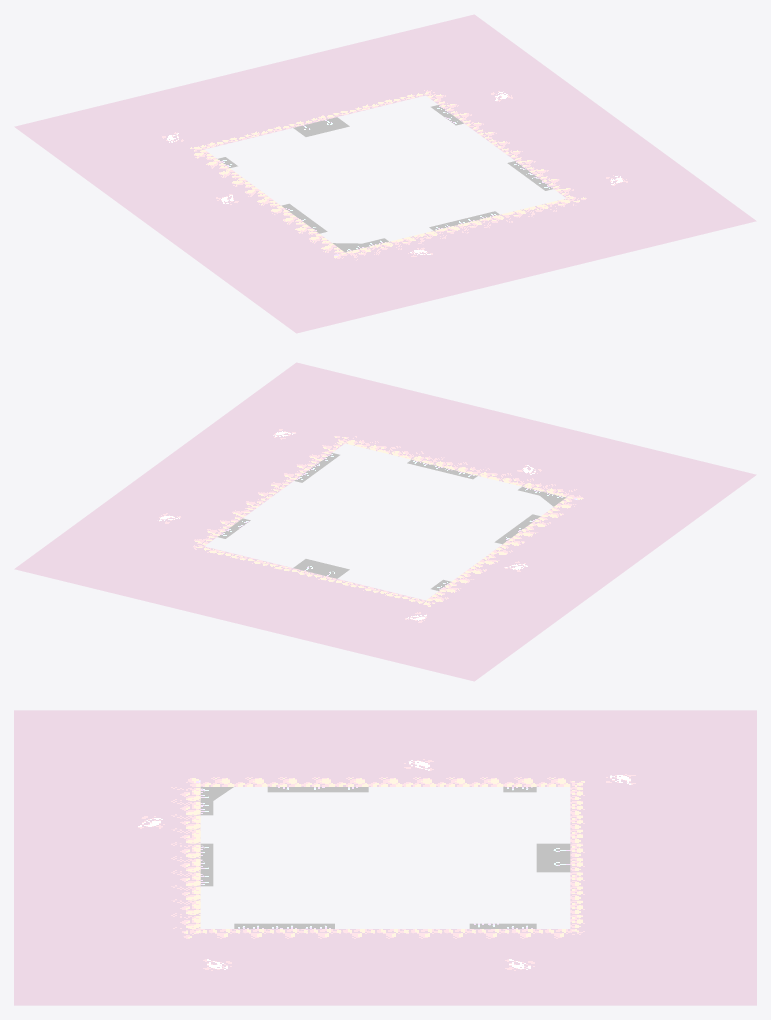
The model's file is Coldth.glb.
3 renders of one model, top to bottom at view 1: azimuth 30°, elevation 25°; view 2: azimuth 150°, elevation 25°; view 3: azimuth 270°, elevation 25°, orthographic. The views are drawn at different scales.
Visible parts, largest first — view 1: Cube; view 2: Cube; view 3: Cube.
Boxes of the visible parts, x1=… form: Cube: x1=14, y1=14, x2=756, y2=333; Cube: x1=14, y1=362, x2=756, y2=681; Cube: x1=14, y1=710, x2=756, y2=1005.
Size of the model in its own units: 10.4 by 0 by 11.05.
